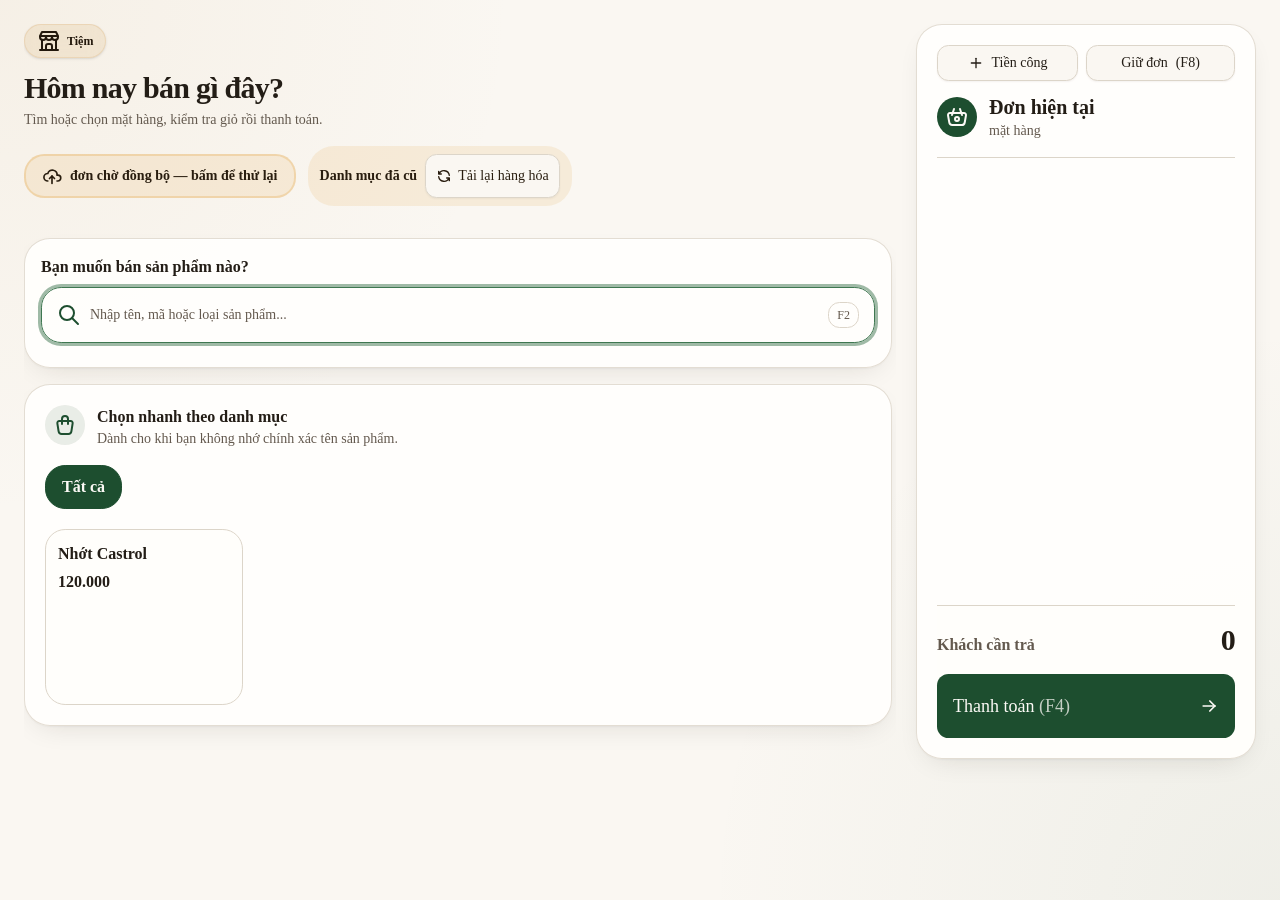
it: PosScreen catalog cache › hết phiên khi tải lại hàng hóa thì báo thu ngân đăng nhập lại
The width and height of the screenshot is (1280, 900).
Click the button "Tải lại hàng hóa".
click(492, 176)  # box top-left (425, 154), bottom-right (560, 198)
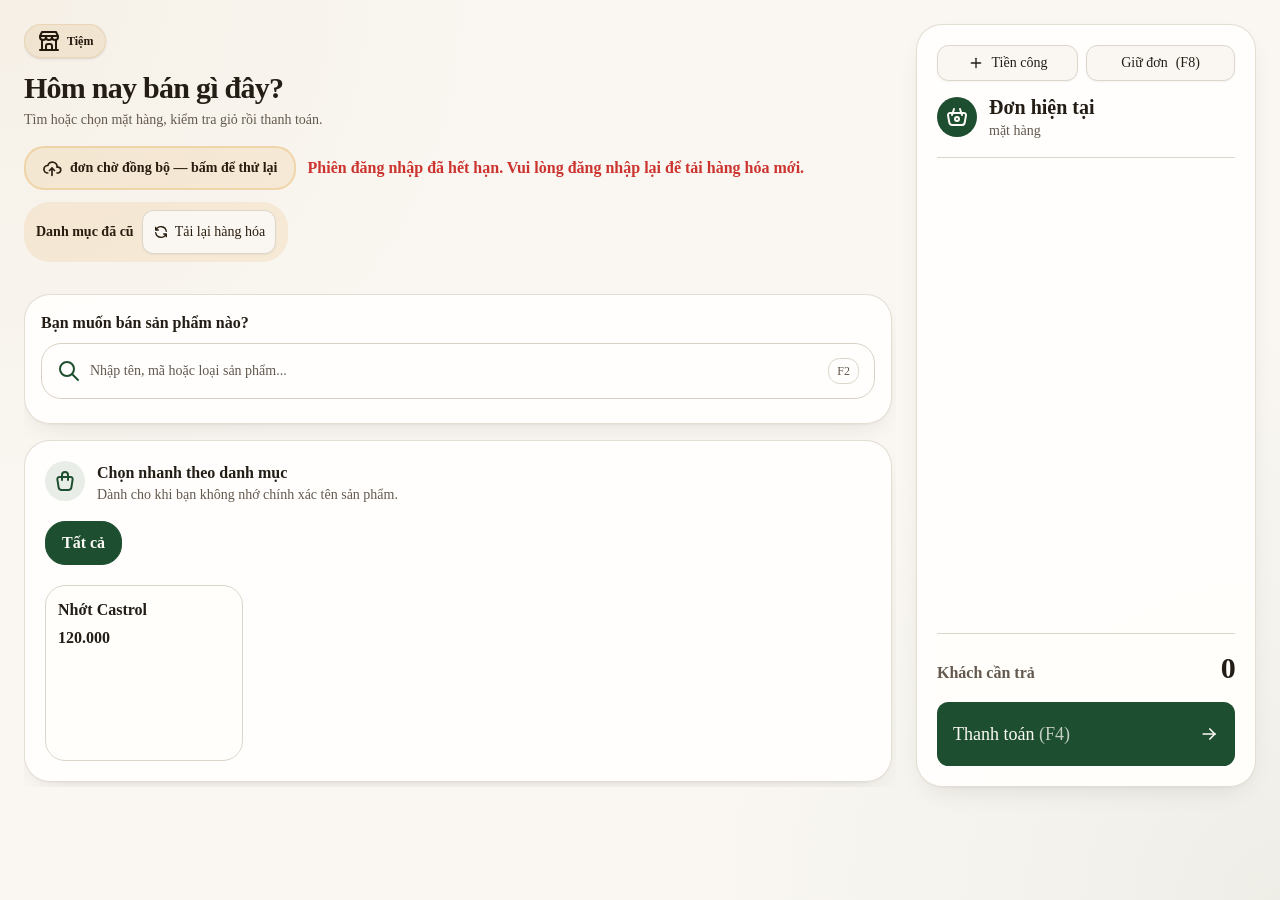
Check: the message shows "Phiên đăng nhập đã hết hạn", box top-left (308, 159), bottom-right (804, 176)
